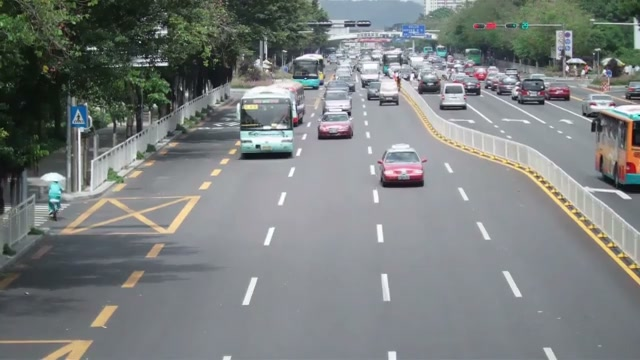bus: (238, 87, 296, 159), (591, 104, 640, 189), (292, 54, 325, 89)
car: (376, 143, 426, 188), (317, 111, 354, 140), (512, 79, 546, 105), (323, 88, 353, 116), (581, 94, 617, 116), (439, 82, 467, 110), (377, 79, 399, 106), (496, 75, 517, 94), (545, 85, 571, 100), (625, 82, 640, 99)
pedestrian: (47, 181, 63, 220)
truck: (358, 62, 382, 90)
